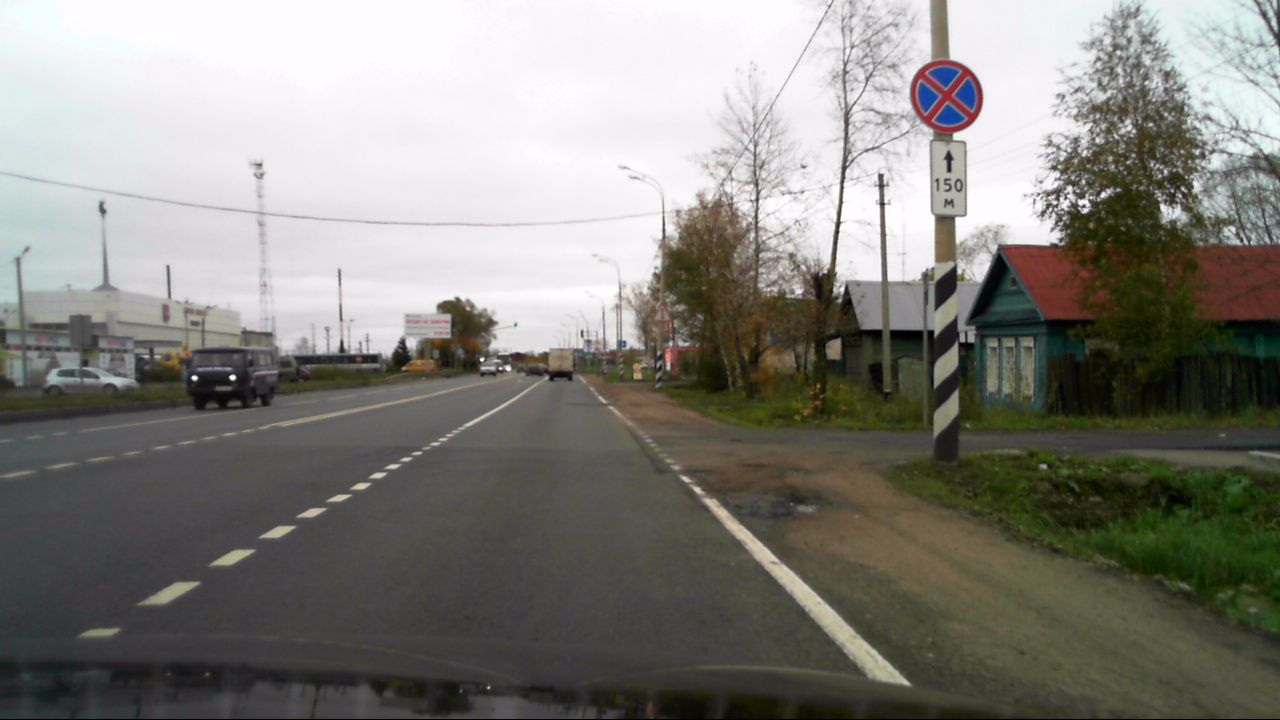No Parking: (909, 58, 984, 134)
